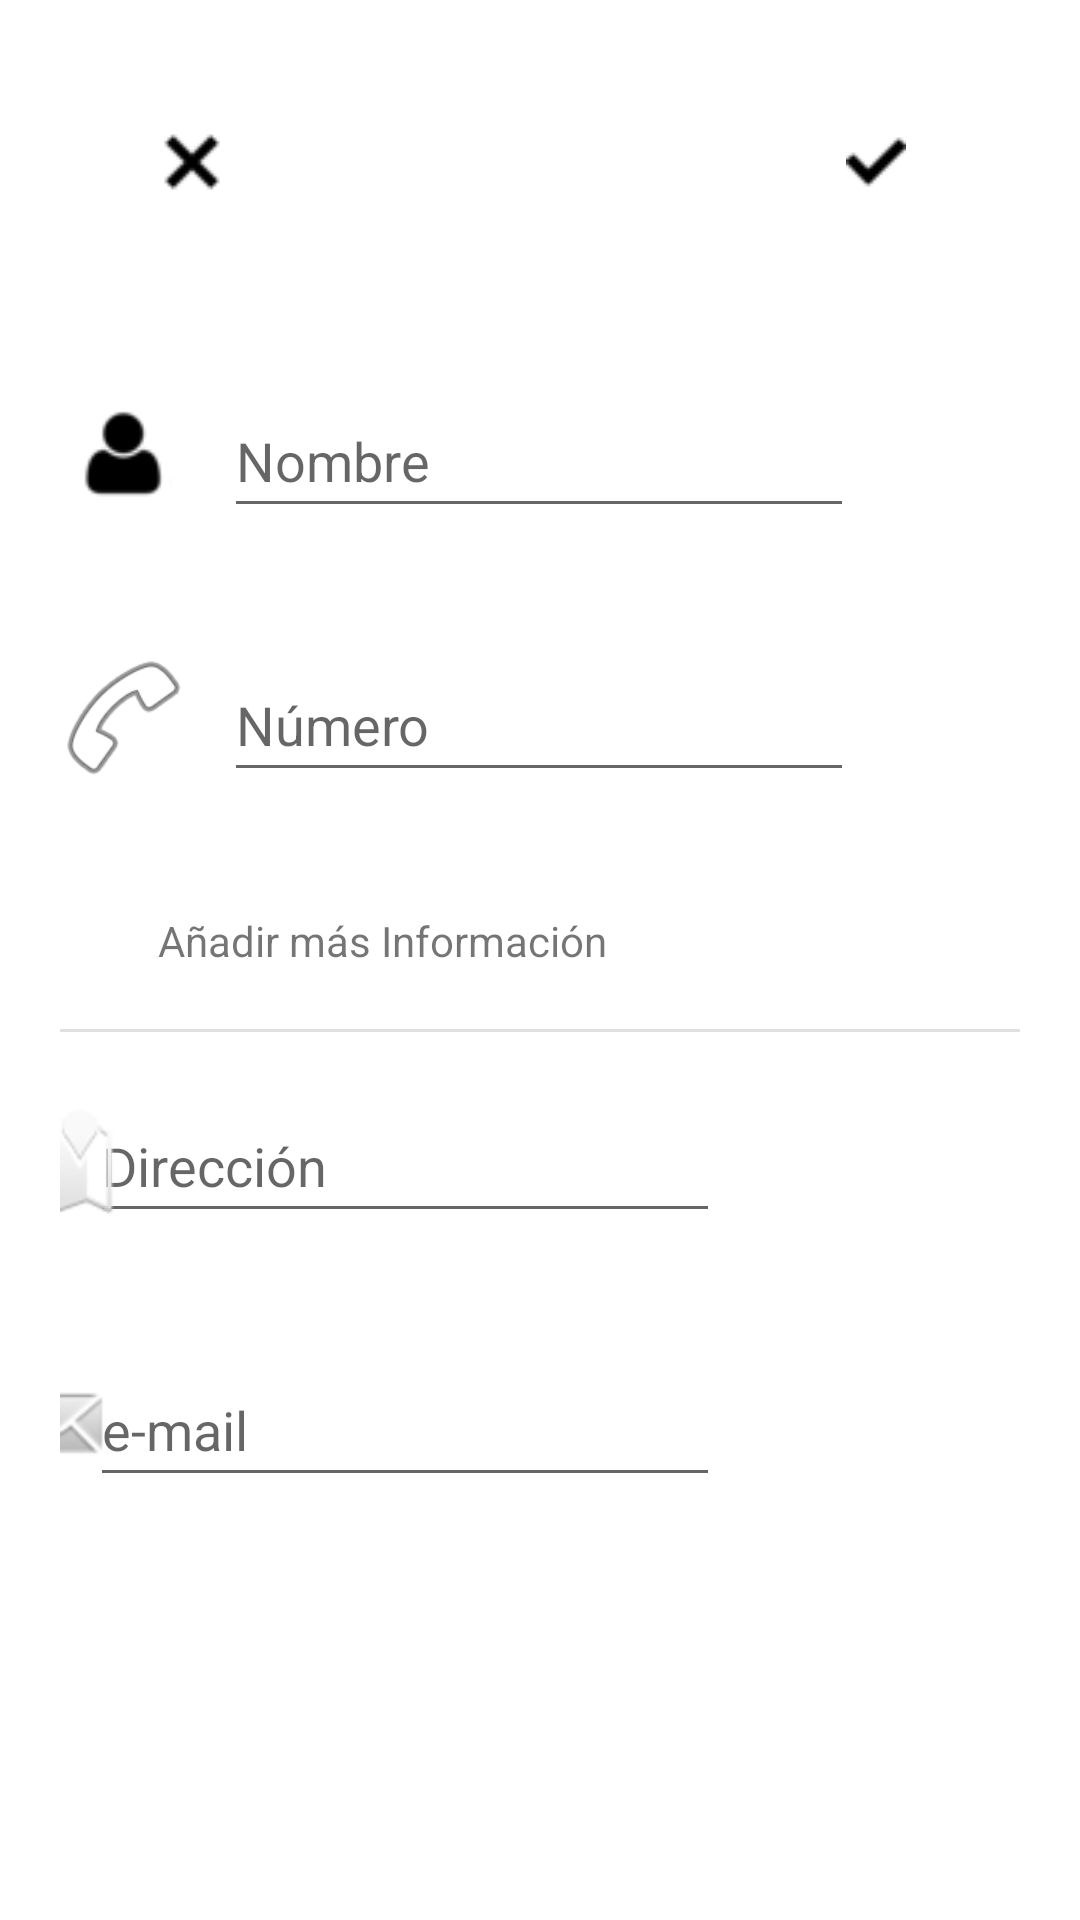

Icon click points for this 1080 x 1920 phone screenshot, format [x,y]:
call: [123,717]
cancel: [192,162]
check: [876,162]
contacto: [123,454]
map: [88,1171]
